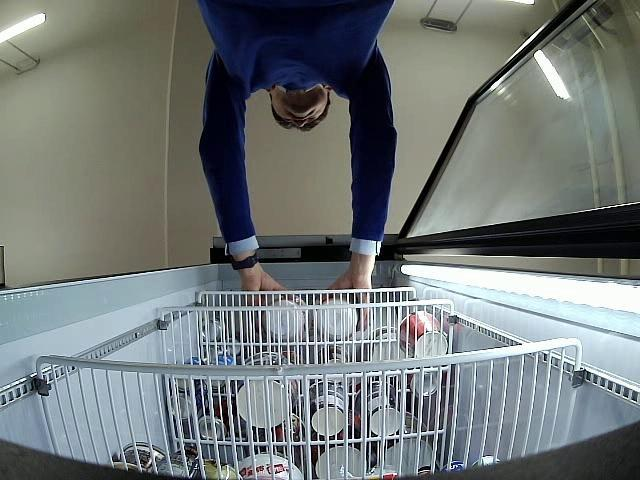09_yukGaeJang: (264, 298, 310, 340), (318, 296, 359, 338)
